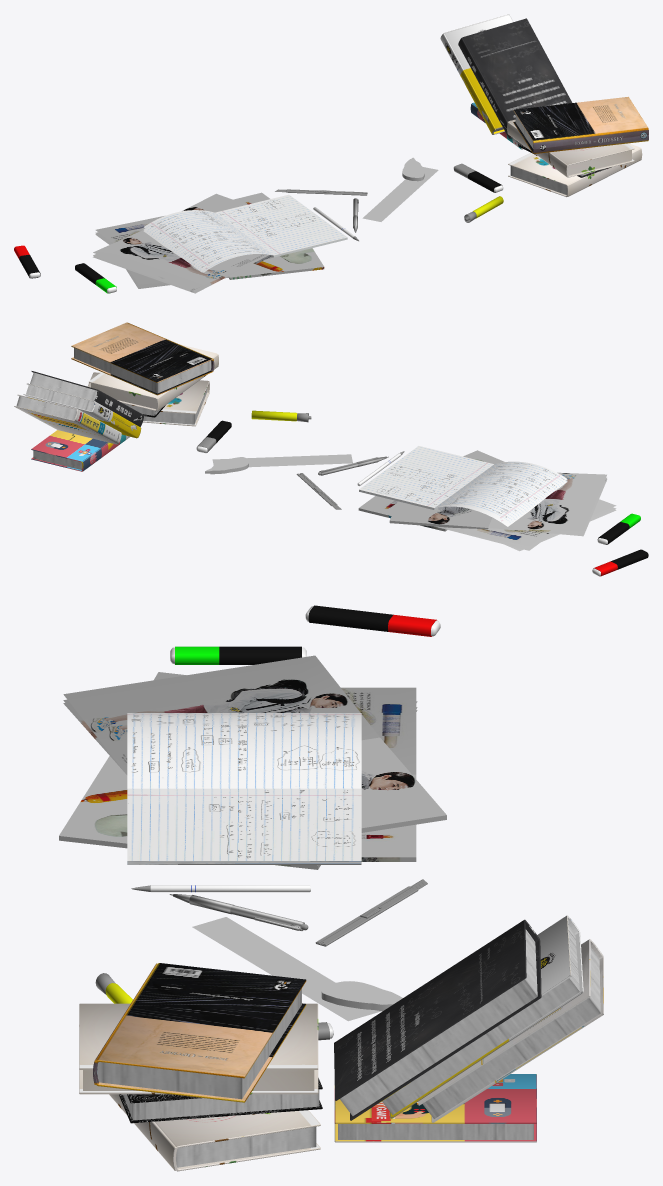
The model's file is Level3.FBX.
The picture shows the model from 3 angles, top to bottom: view 1: azimuth 30°, elevation 25°; view 2: azimuth 150°, elevation 25°; view 3: azimuth 270°, elevation 25°; orthographic projection. The views are drawn at different scales.
Visible parts, largest first — view 1: Obj_note_01, Obj_book_etc_05, Obj_book_etc_04, Obj_note_003, Obj_book_etc_01, Obj_book_etc_013, Obj_book_etc_02, Obj_note_004, Box001, Obj_note_002, Obj_pen_02(1)001, Obj_pen_02 (+2 smaller); view 2: Obj_note_01, Obj_book_etc_04, Obj_note_003, Obj_book_etc_10, Obj_book_etc_03, Obj_book_etc_013, Obj_note_002, Obj_book_etc_02, Obj_book_etc_01, Obj_book_etc_05, Box001, Obj_note_004 (+5 smaller); view 3: Obj_note_01, Obj_book_etc_04, Obj_note_003, Obj_book_etc_05, Obj_book_etc_10, Obj_book_etc_01, Obj_book_etc_02, Obj_book_etc_03, Obj_book_etc_013, Obj_note_002, Obj_note_004, Obj_book_etc_11 (+7 smaller).
Boxes of the visible parts, left/top/right/bottom form: Obj_note_01: left=143, top=194, right=347, bottom=272; Obj_book_etc_05: left=458, top=18, right=572, bottom=138; Obj_book_etc_04: left=513, top=96, right=648, bottom=153; Obj_note_003: left=93, top=193, right=271, bottom=293; Obj_book_etc_01: left=508, top=143, right=642, bottom=197; Obj_book_etc_013: left=507, top=119, right=634, bottom=177; Obj_book_etc_02: left=440, top=14, right=513, bottom=134; Obj_note_004: left=111, top=242, right=324, bottom=288; Box001: left=362, top=167, right=438, bottom=221; Obj_note_002: left=95, top=192, right=273, bottom=283; Obj_pen_02(1)001: left=453, top=163, right=503, bottom=192; Obj_pen_02: left=75, top=263, right=116, bottom=293; Obj_note_01: left=359, top=446, right=567, bottom=526; Obj_book_etc_04: left=71, top=322, right=214, bottom=395; Obj_note_003: left=389, top=472, right=607, bottom=536; Obj_book_etc_10: left=31, top=430, right=129, bottom=471; Obj_book_etc_03: left=14, top=394, right=121, bottom=444; Obj_book_etc_013: left=88, top=344, right=218, bottom=411; Obj_note_002: left=358, top=496, right=552, bottom=550; Obj_book_etc_02: left=23, top=383, right=141, bottom=438; Obj_book_etc_01: left=87, top=372, right=209, bottom=426; Obj_book_etc_05: left=28, top=371, right=144, bottom=427; Box001: left=212, top=454, right=352, bottom=467; Obj_note_004: left=463, top=450, right=616, bottom=551; Obj_note_01: left=127, top=713, right=361, bottom=864; Obj_book_etc_04: left=93, top=963, right=306, bottom=1102; Obj_note_003: left=63, top=655, right=446, bottom=832; Obj_book_etc_05: left=334, top=919, right=541, bottom=1120; Obj_book_etc_10: left=334, top=1074, right=536, bottom=1142; Obj_book_etc_01: left=109, top=1094, right=320, bottom=1171; Obj_book_etc_02: left=378, top=915, right=583, bottom=1119; Obj_book_etc_03: left=418, top=939, right=603, bottom=1122; Obj_book_etc_013: left=79, top=1003, right=318, bottom=1094; Obj_note_002: left=341, top=687, right=416, bottom=861; Obj_note_004: left=59, top=672, right=417, bottom=869; Obj_book_etc_11: left=118, top=1078, right=322, bottom=1123.
Size of the model in its own units: 148 by 21.38 by 60.04.
